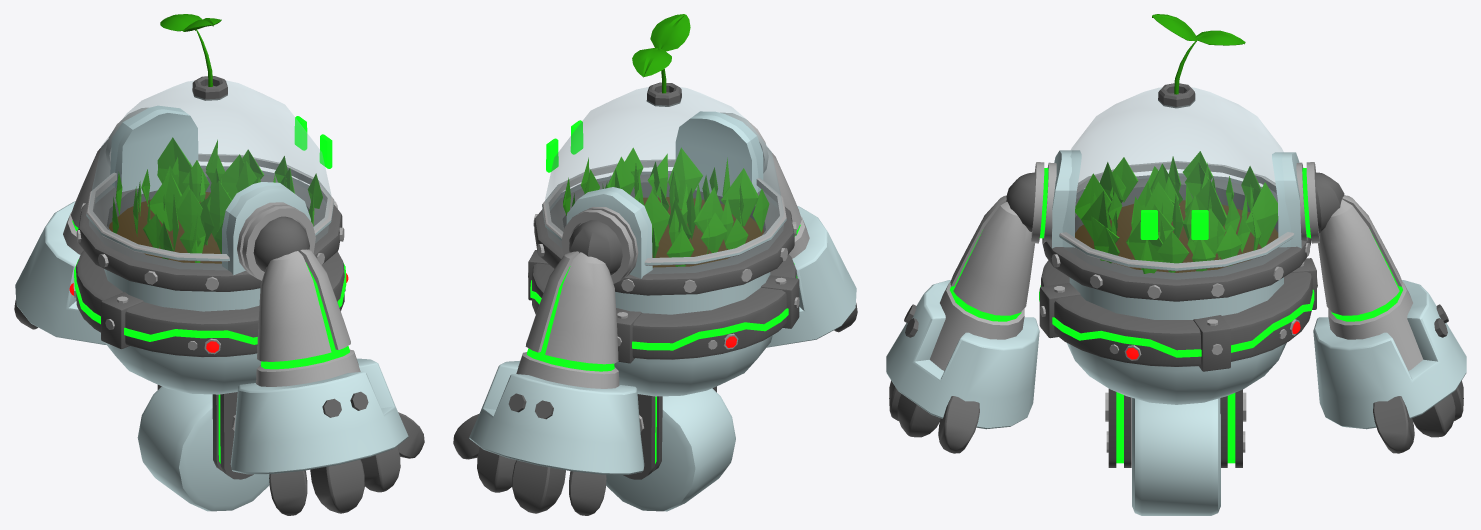
Rendered from Robotv4.fbx.
The picture shows the model from 3 angles, left to right: view 1: azimuth 30°, elevation 25°; view 2: azimuth 150°, elevation 25°; view 3: azimuth 270°, elevation 25°; orthographic projection. The views are drawn at different scales.
Parts seen in each view (by area): view 1: Cylinder.040, Cylinder.046, Cylinder.045; view 2: Cylinder.040, Cylinder.045, Cylinder.046; view 3: Cylinder.040, Cylinder.045, Cylinder.046.
Part boxes in pixels (bbox=[...]): Cylinder.040: bbox=[69, 14, 348, 511]; Cylinder.046: bbox=[230, 249, 424, 515]; Cylinder.045: bbox=[14, 140, 110, 344]; Cylinder.040: bbox=[528, 14, 799, 511]; Cylinder.045: bbox=[453, 251, 644, 515]; Cylinder.046: bbox=[763, 147, 857, 347]; Cylinder.040: bbox=[1006, 14, 1344, 515]; Cylinder.045: bbox=[1313, 195, 1466, 453]; Cylinder.046: bbox=[886, 195, 1039, 453].
Size of the model in its own units: 204 by 398 by 427.
